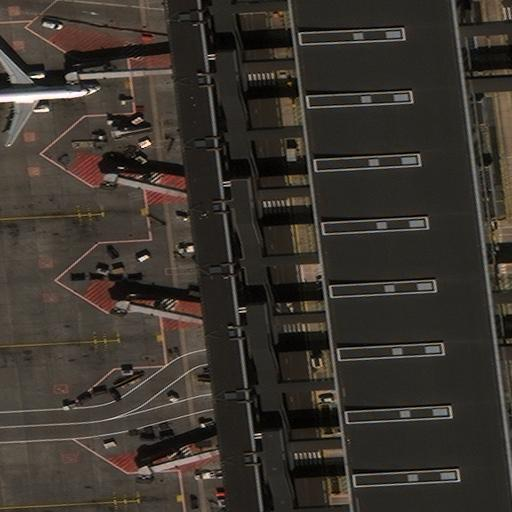Medium Civil Transport: (0, 48, 96, 146)
